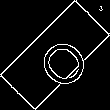O_NW: (22, 22, 88, 88)
